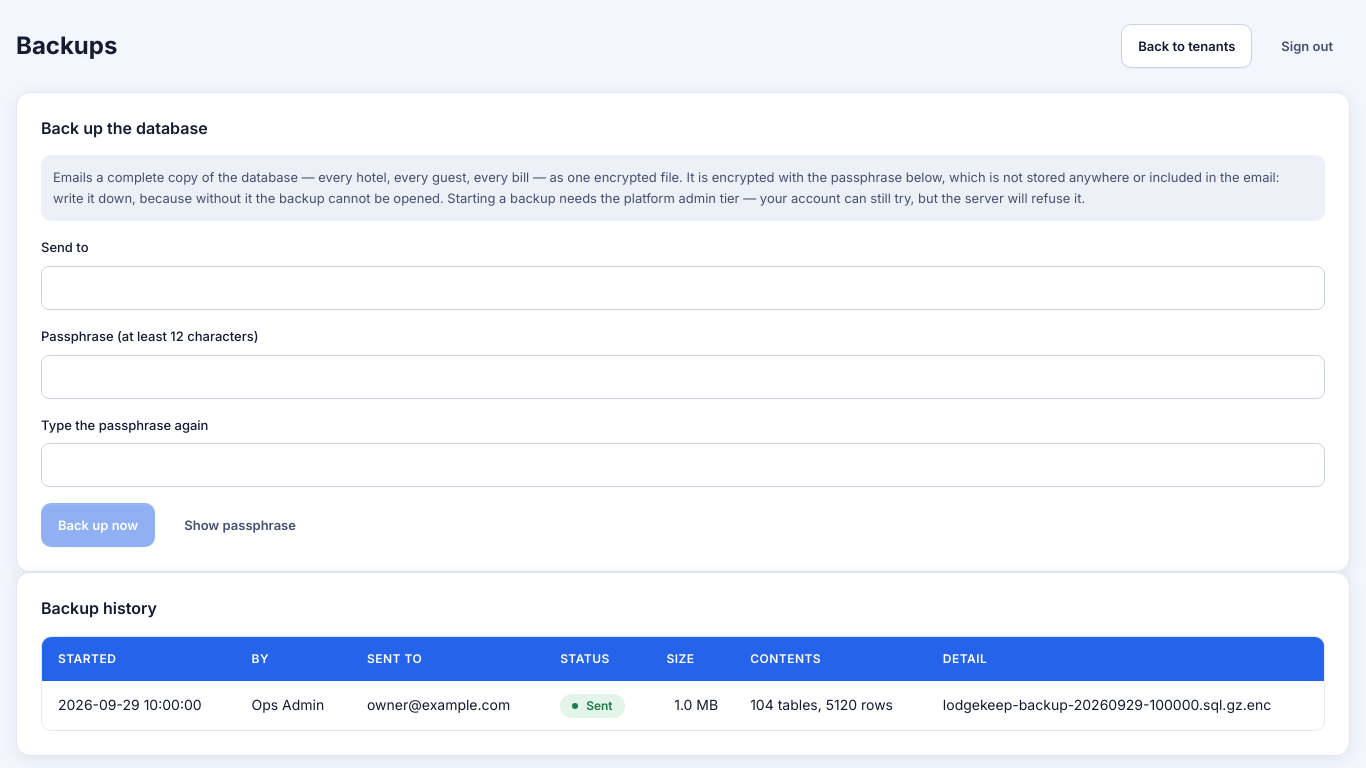
Test: <BackupsScreen> › asks for confirmation naming the address, then starts the backup with the passphrase and clears it
expect the table is shown: met, box [42,637,1324,730]
Type "owner@example.com" into the field labelled "Send to".
click(683, 288); type("owner@example.com")  # box [41,266,1325,310]
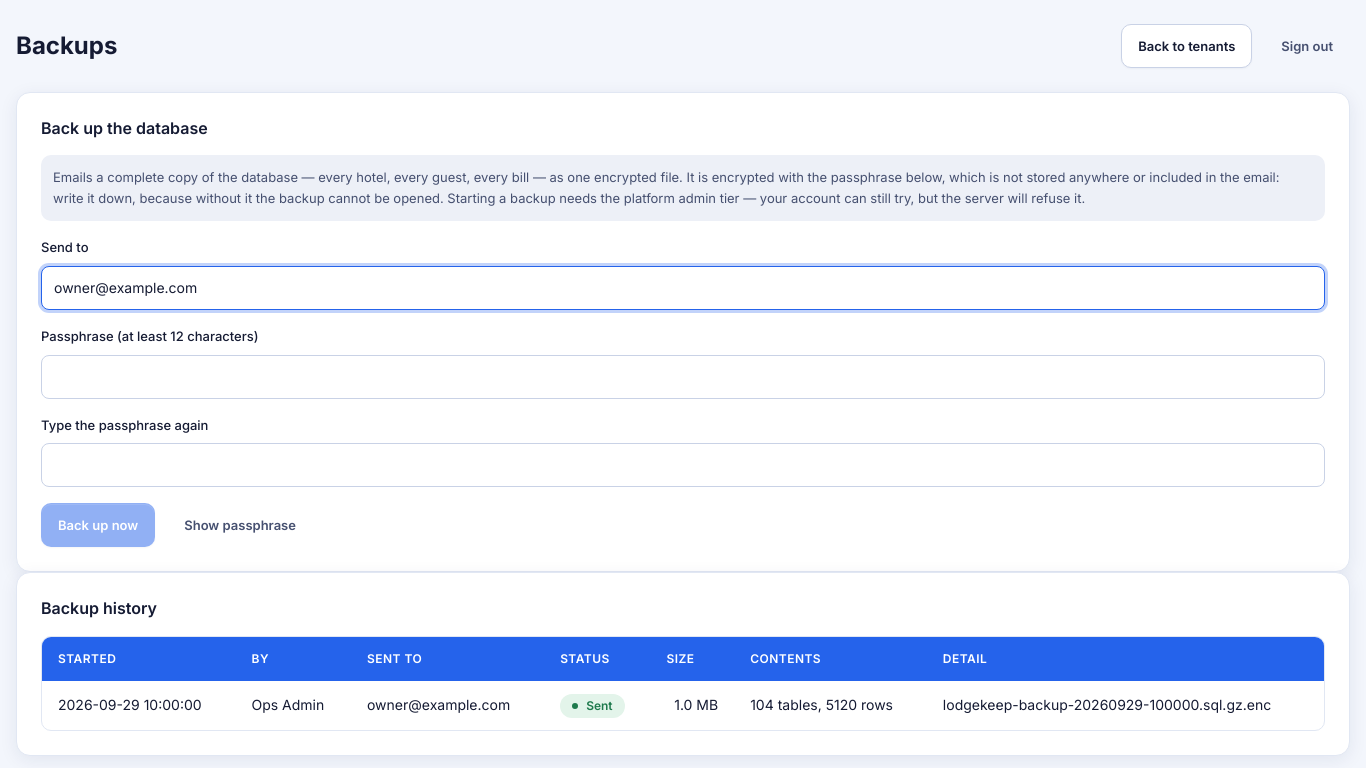
Type "correct horse battery" into the password field labelled "Passphrase (at least 12 characters)".
click(683, 377); type("correct horse battery")  # box [41,355,1325,399]
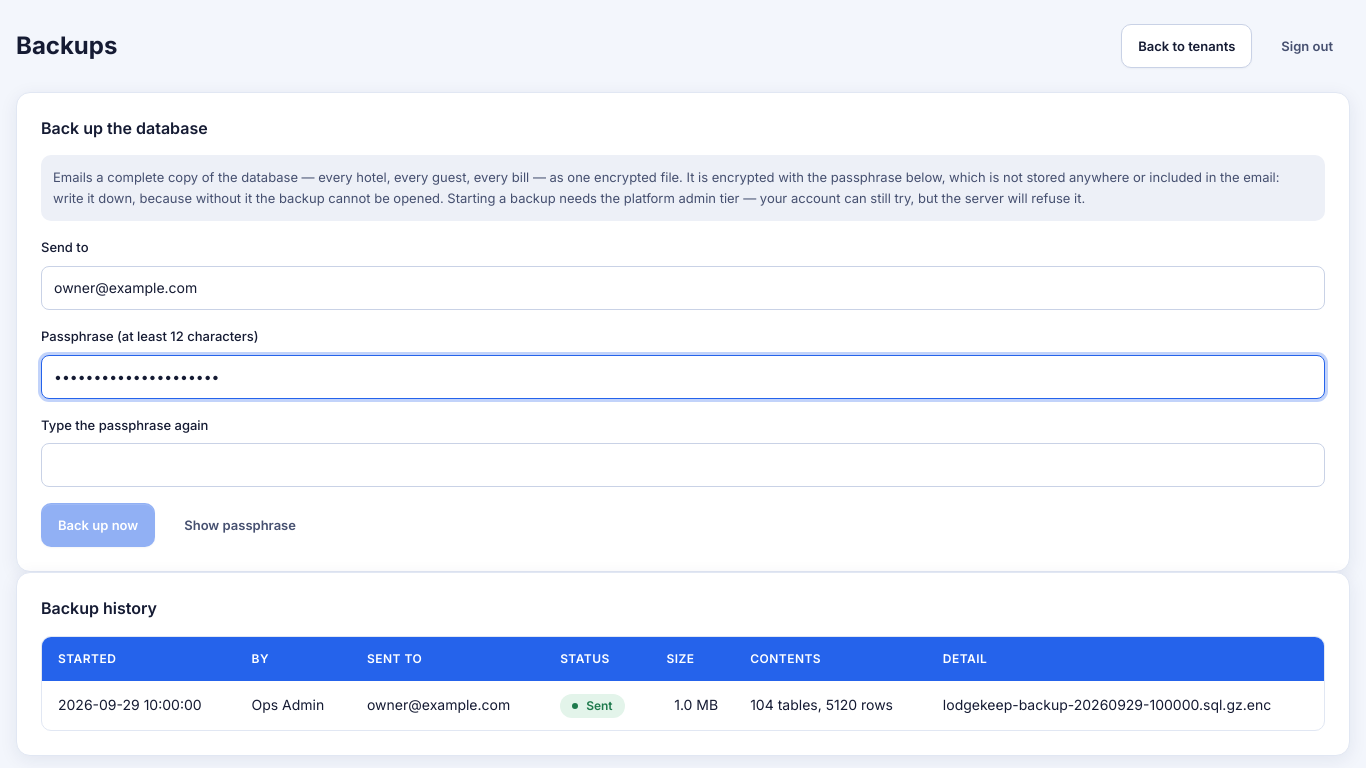
Type "correct horse battery" into the password field labelled "Type the passphrase again".
click(683, 465); type("correct horse battery")  # box [41,443,1325,487]
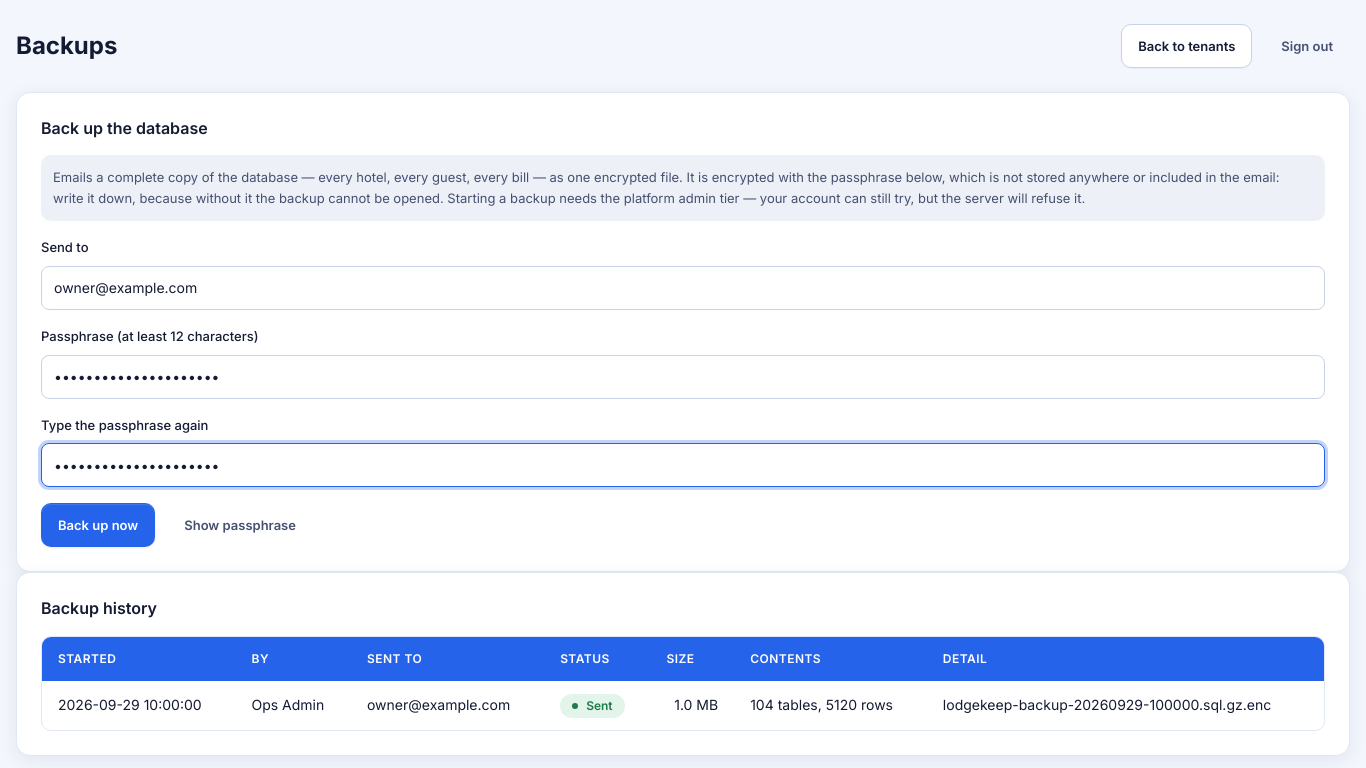
Click the button "Back up now".
click(98, 525)  # box [41,503,155,547]
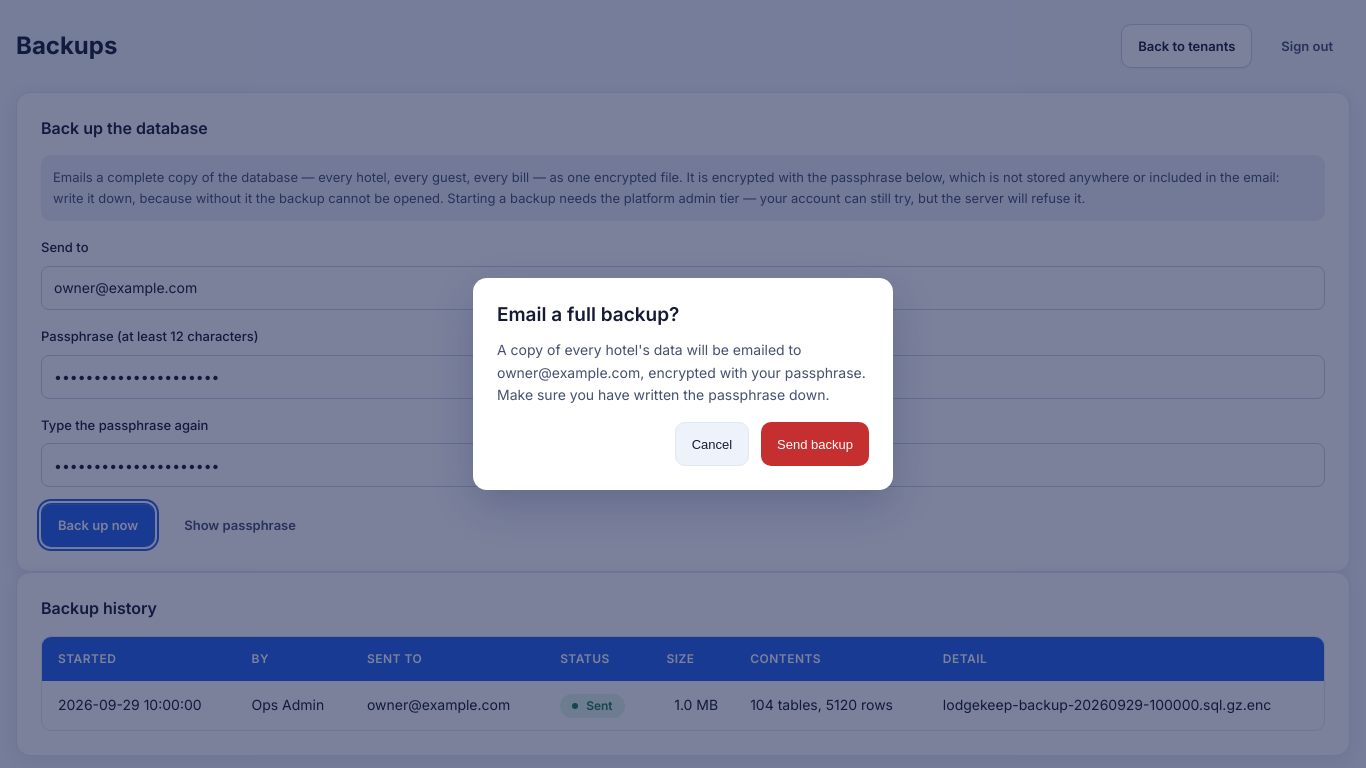
expect the text "emailed to owner@example.com" is shown: met, box [497,341,866,403]
Click the button "Send backup".
click(815, 444)  # box [761,422,869,466]
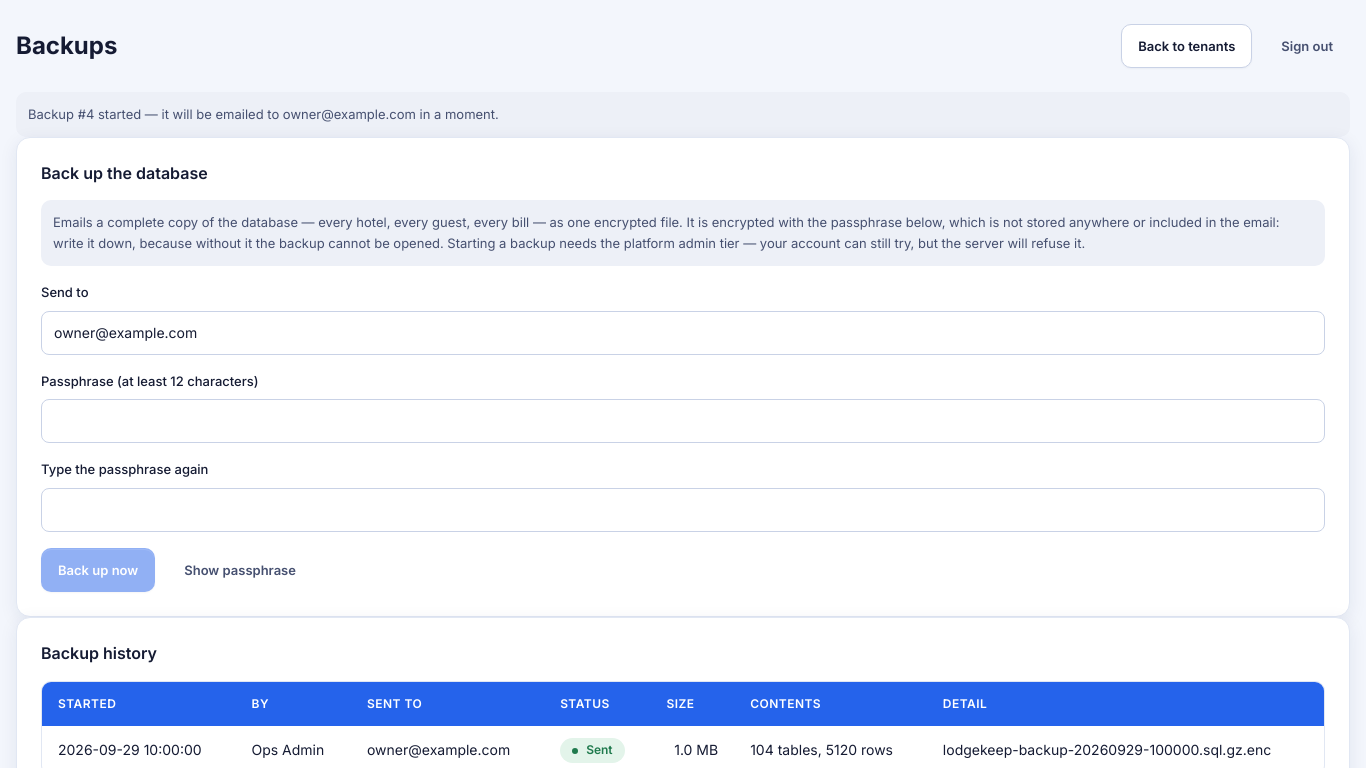
expect the text "Backup #4 started — it will be emailed to owner@example.com in a moment." is shown: met, box [16,92,1350,137]
expect the password field labelled "Passphrase (at least 12 characters)" is empty: met, box [41,399,1325,443]
expect the password field labelled "Type the passphrase again" is empty: met, box [41,488,1325,532]
